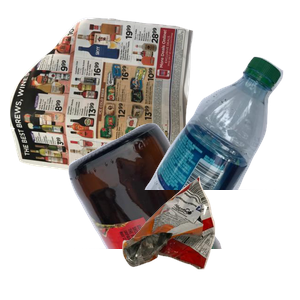glass: (66, 120, 300, 300)
paper: (10, 15, 196, 195)
plastic: (142, 54, 300, 234)
trash: (120, 174, 300, 300)
